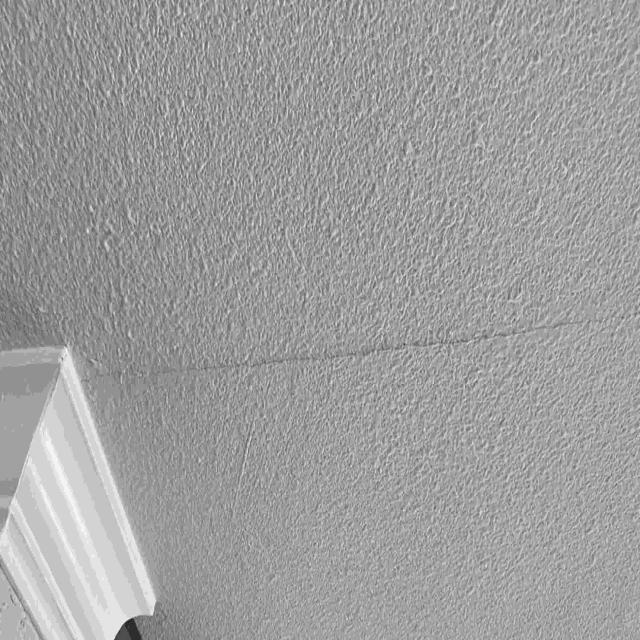Crack: (81, 312, 640, 383)
